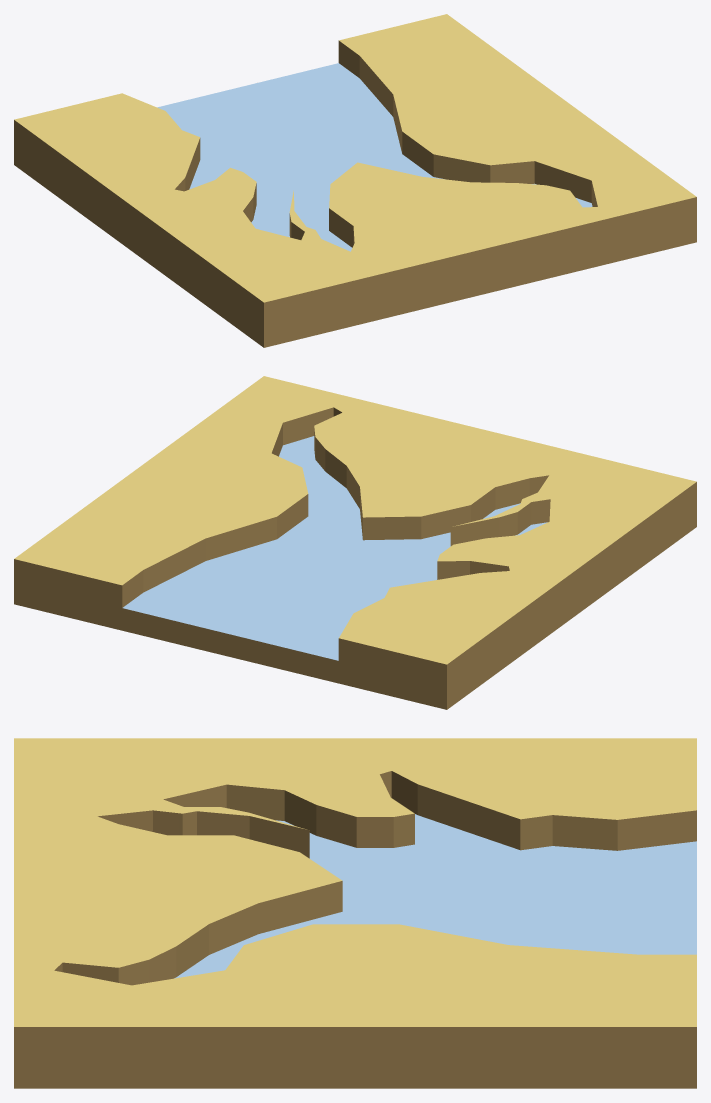
The model's file is Terrain_Modular_Tiles_Sand_Dirt_River_End_02.fbx.
The picture shows the model from 3 angles, top to bottom: view 1: azimuth 30°, elevation 25°; view 2: azimuth 150°, elevation 25°; view 3: azimuth 270°, elevation 25°; orthographic projection. The views are drawn at different scales.
Parts seen in each view (by area): view 1: Terrain_Modular_Tiles_Sand_Dirt_River_End_02; view 2: Terrain_Modular_Tiles_Sand_Dirt_River_End_02; view 3: Terrain_Modular_Tiles_Sand_Dirt_River_End_02.
Part boxes in pixels (box(x1,y1,x2,y2)): Terrain_Modular_Tiles_Sand_Dirt_River_End_02: box(14, 14, 696, 347); Terrain_Modular_Tiles_Sand_Dirt_River_End_02: box(14, 376, 696, 709); Terrain_Modular_Tiles_Sand_Dirt_River_End_02: box(14, 738, 696, 1088).
Bounding box in the file's own units: 118 × 11.81 × 118.
